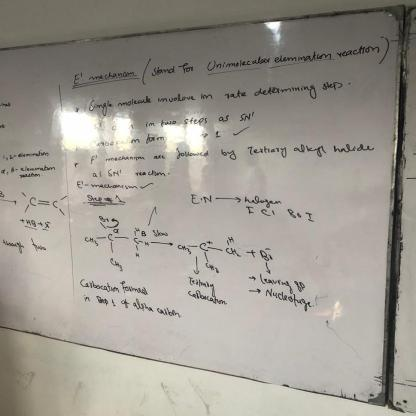Handwritten text: (82, 74, 347, 116), (145, 36, 385, 80), (97, 136, 380, 171)
